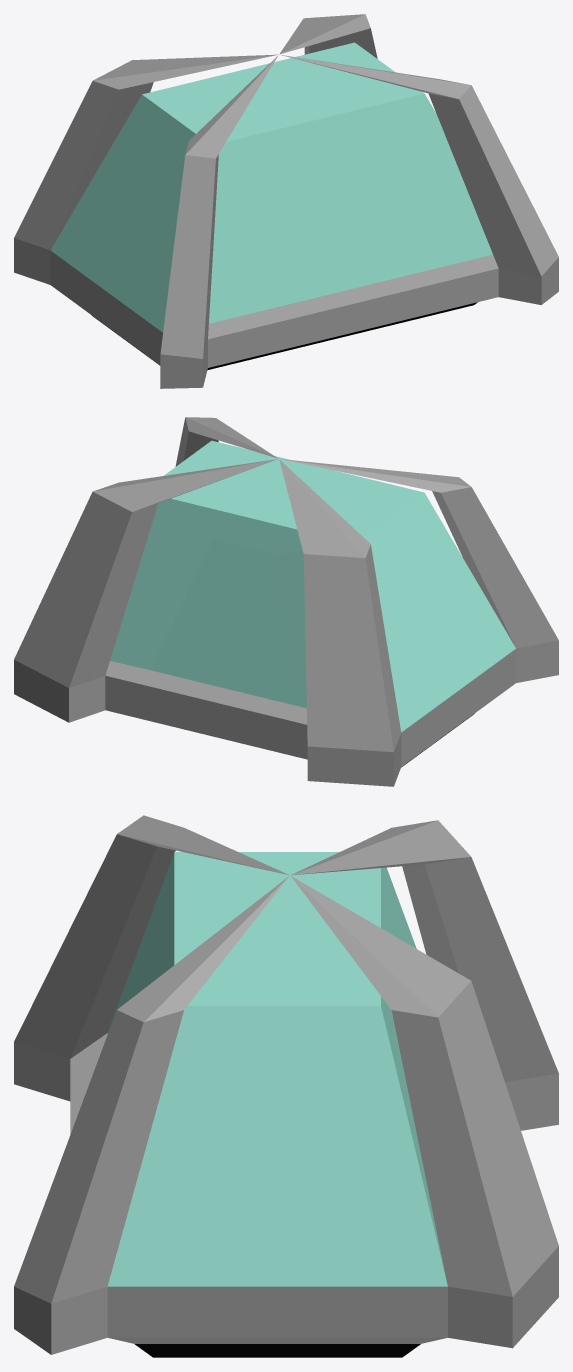
File: Farm_i_missed_up_again.fbx
3 renders of one model, top to bottom at view 1: azimuth 30°, elevation 25°; view 2: azimuth 150°, elevation 25°; view 3: azimuth 270°, elevation 25°, orthographic. The views are drawn at different scales.
Visible parts, largest first — view 1: Cube; view 2: Cube; view 3: Cube.
Boxes of the visible parts, <box> form: Cube: <box>14,14,558,388</box>; Cube: <box>14,417,558,786</box>; Cube: <box>14,815,558,1357</box>.
Bounding box in the file's own units: 980 × 595 × 784.
